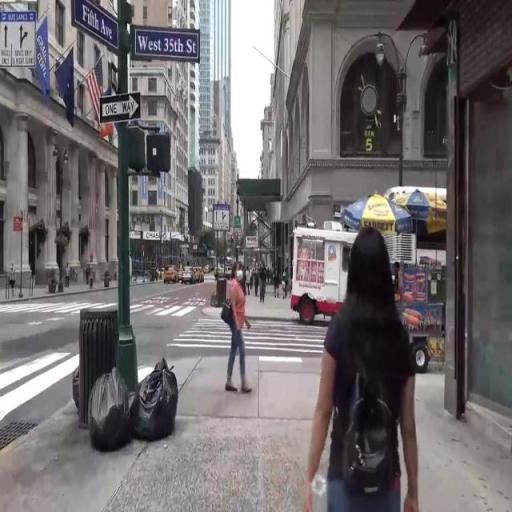person: (311, 228, 417, 512), (223, 256, 254, 407), (259, 261, 269, 304), (9, 264, 20, 297), (273, 265, 281, 300), (284, 269, 293, 300), (65, 262, 73, 290), (254, 263, 259, 298), (247, 266, 251, 292), (87, 266, 91, 286), (251, 262, 254, 288)
